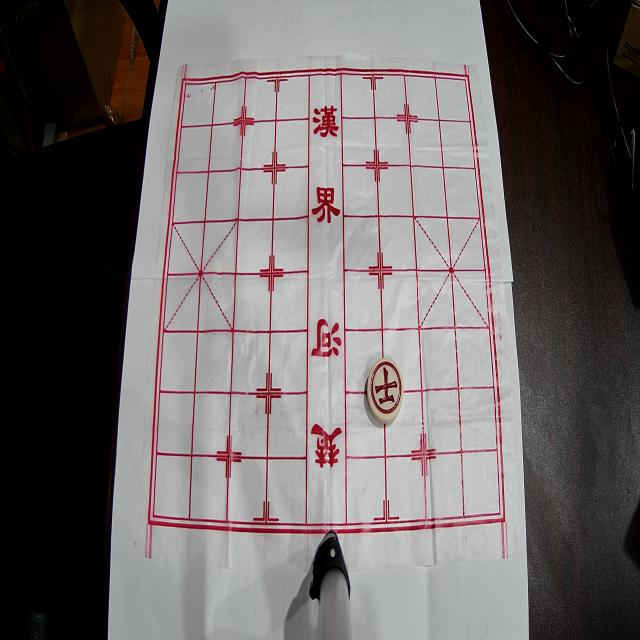red-guard: (367, 358, 404, 423)
